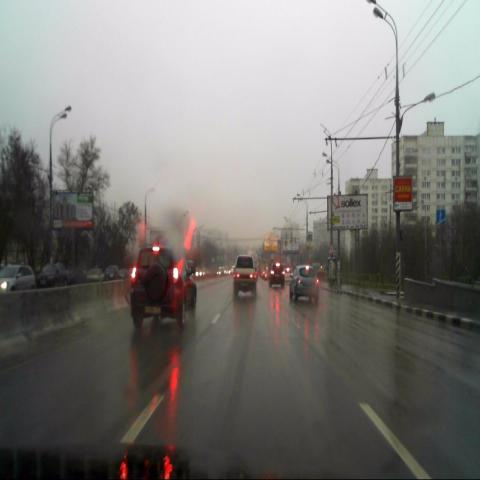6_6: (436, 210, 445, 227)
